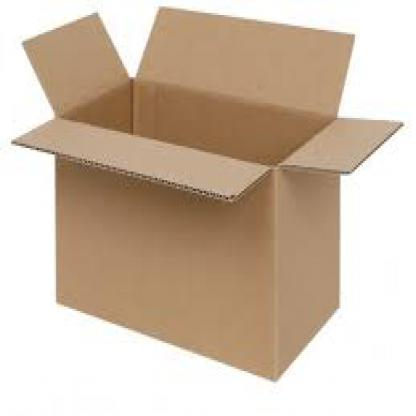CARDBOARD: (7, 4, 403, 378)
